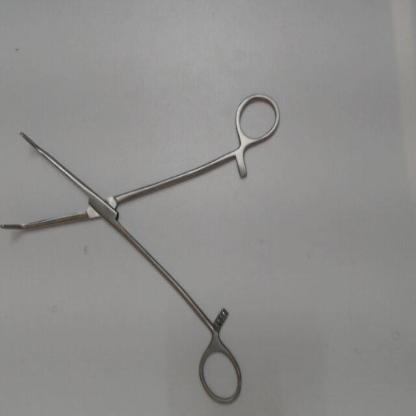Lahey Forceps: (0, 88, 286, 408)
